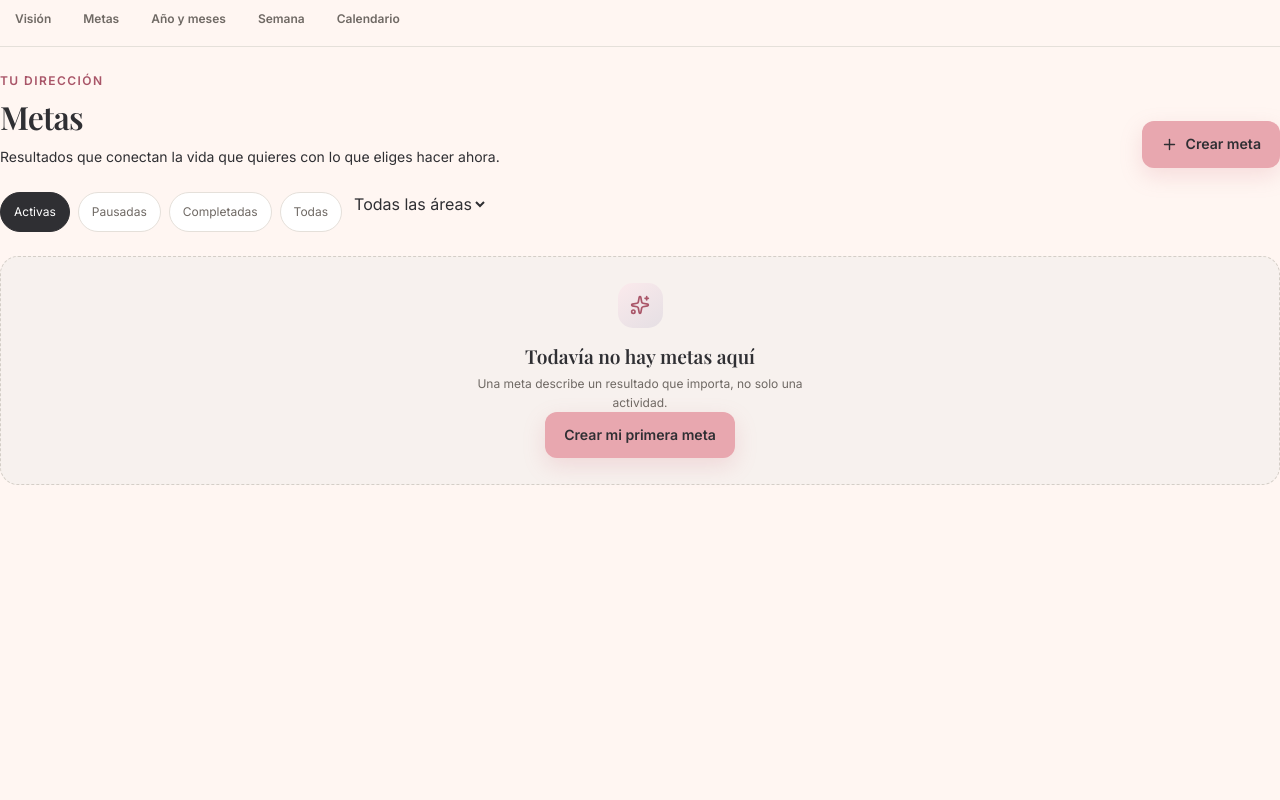
it: goal editor drafts › does not claim success or double-save while goal persistence is pending
This screenshot has width=1280, height=800.
Step 1. Click the button "Crear meta" → [1211, 144], box [1142,121,1279,168]
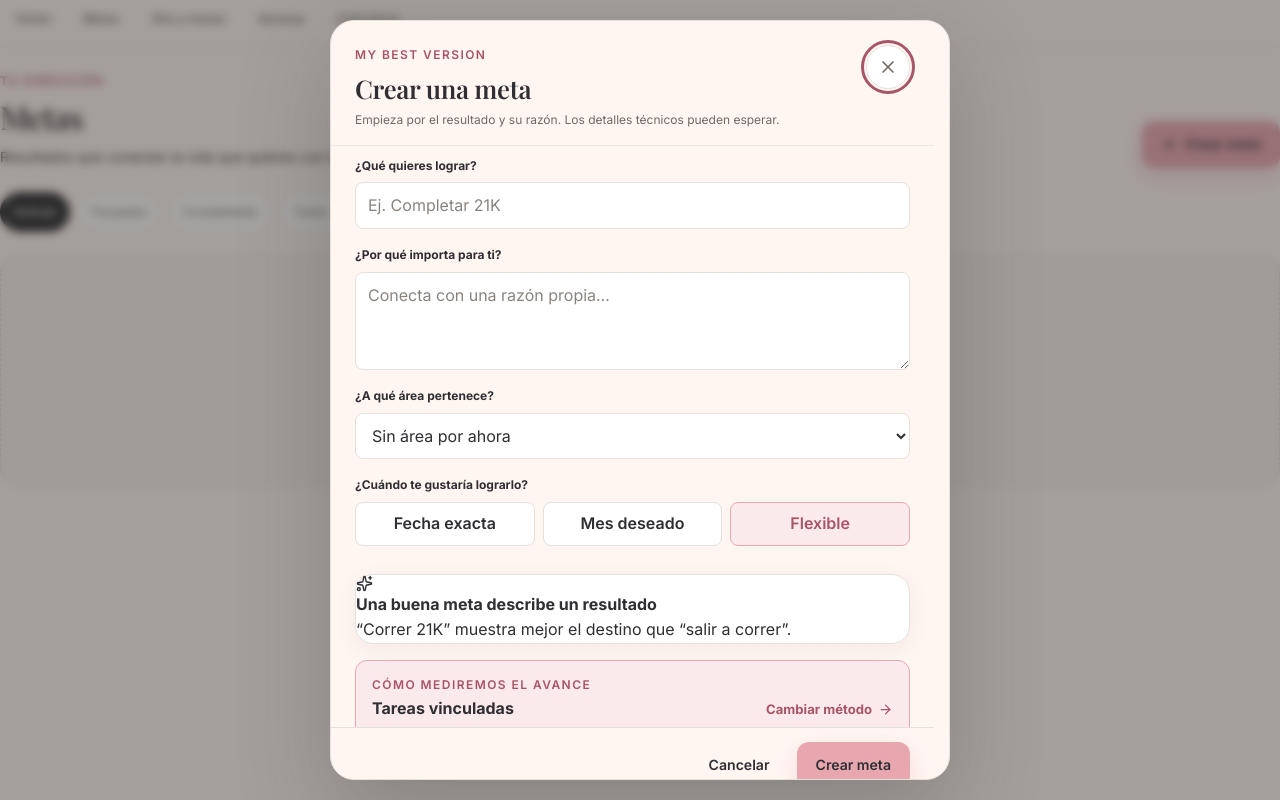
Step 2. Type "Mi resultado" into the field labelled "¿Qué quieres lograr?" → [632, 206], box [355,182,910,229]
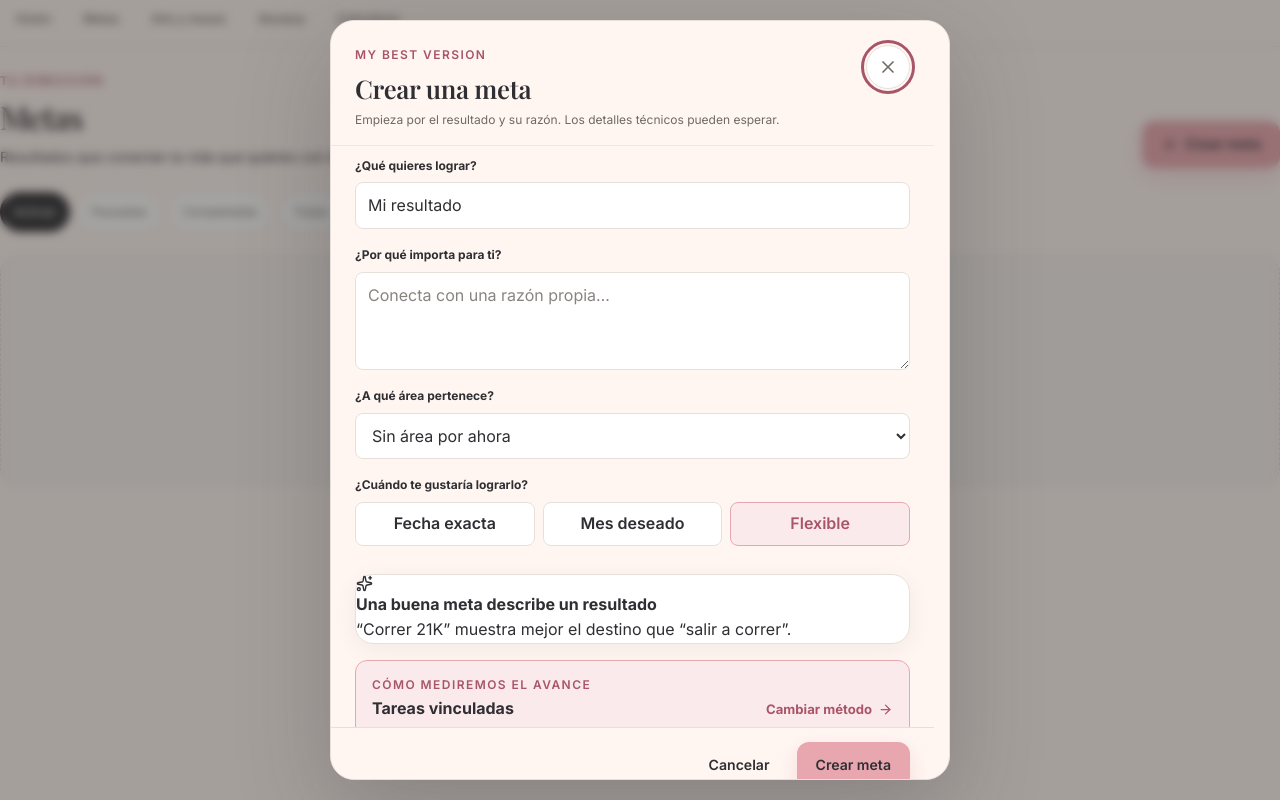
Step 3. Type "Porque importa" into the text box labelled "¿Por qué importa para ti?" → [632, 321], box [355,272,910,370]
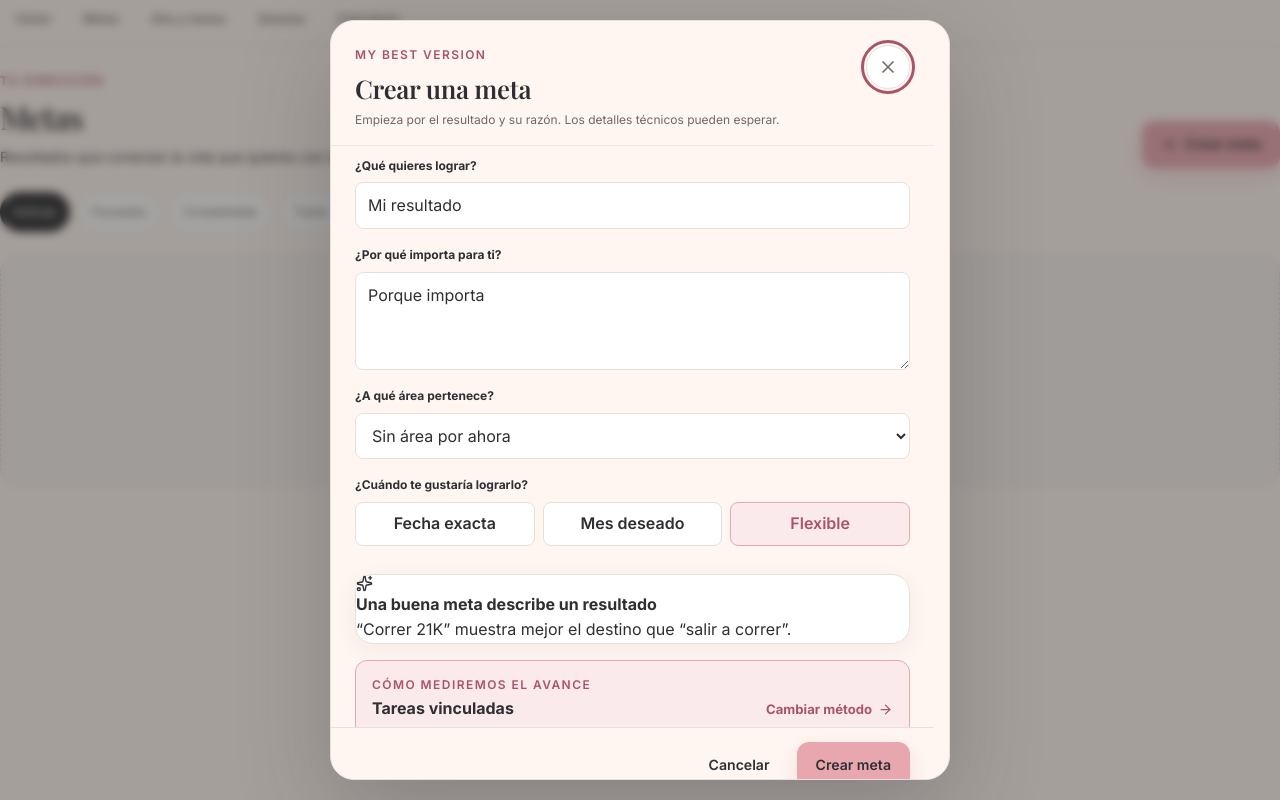
Step 4. Click the button "Crear meta" → [853, 766], box [796,742,910,789]
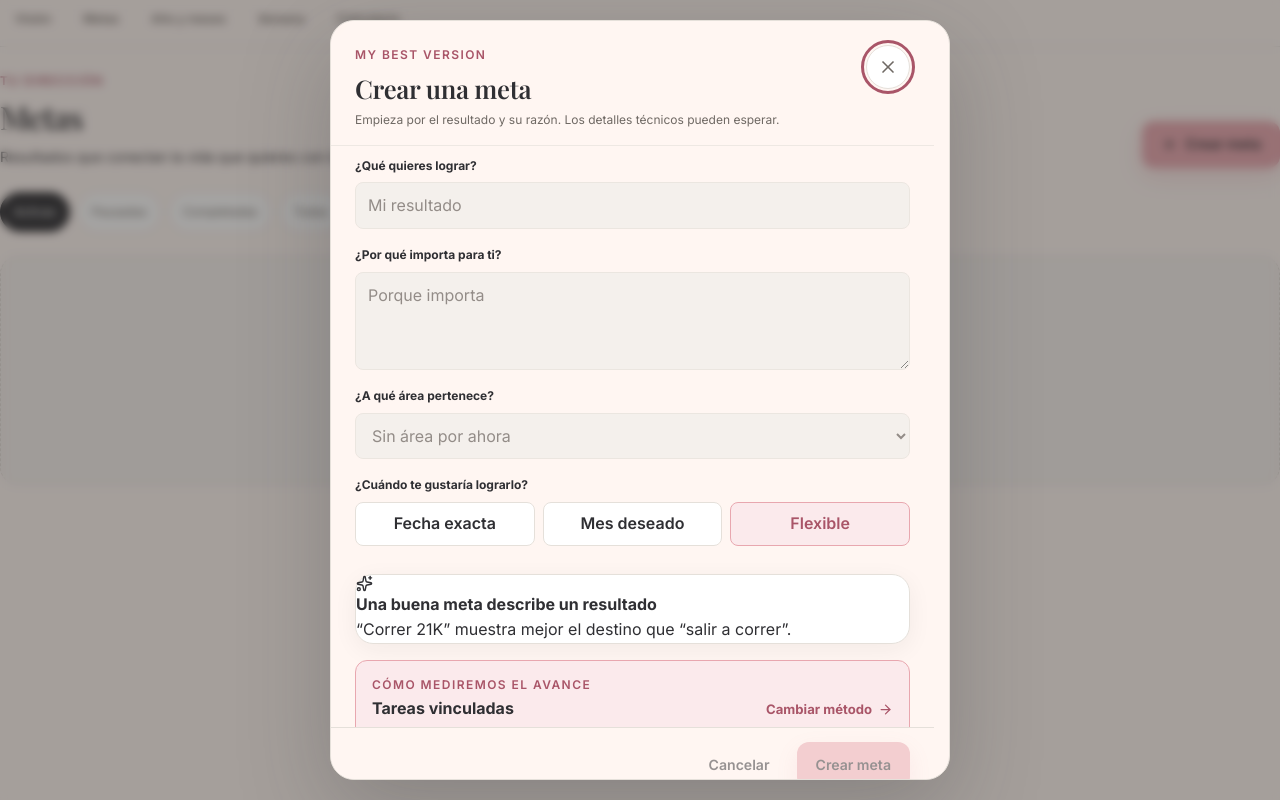
Expected: the button "Crear meta" is disabled, [796,742,910,780]
Step 5. Click the button "Crear meta" → [853, 766], box [796,742,910,789]
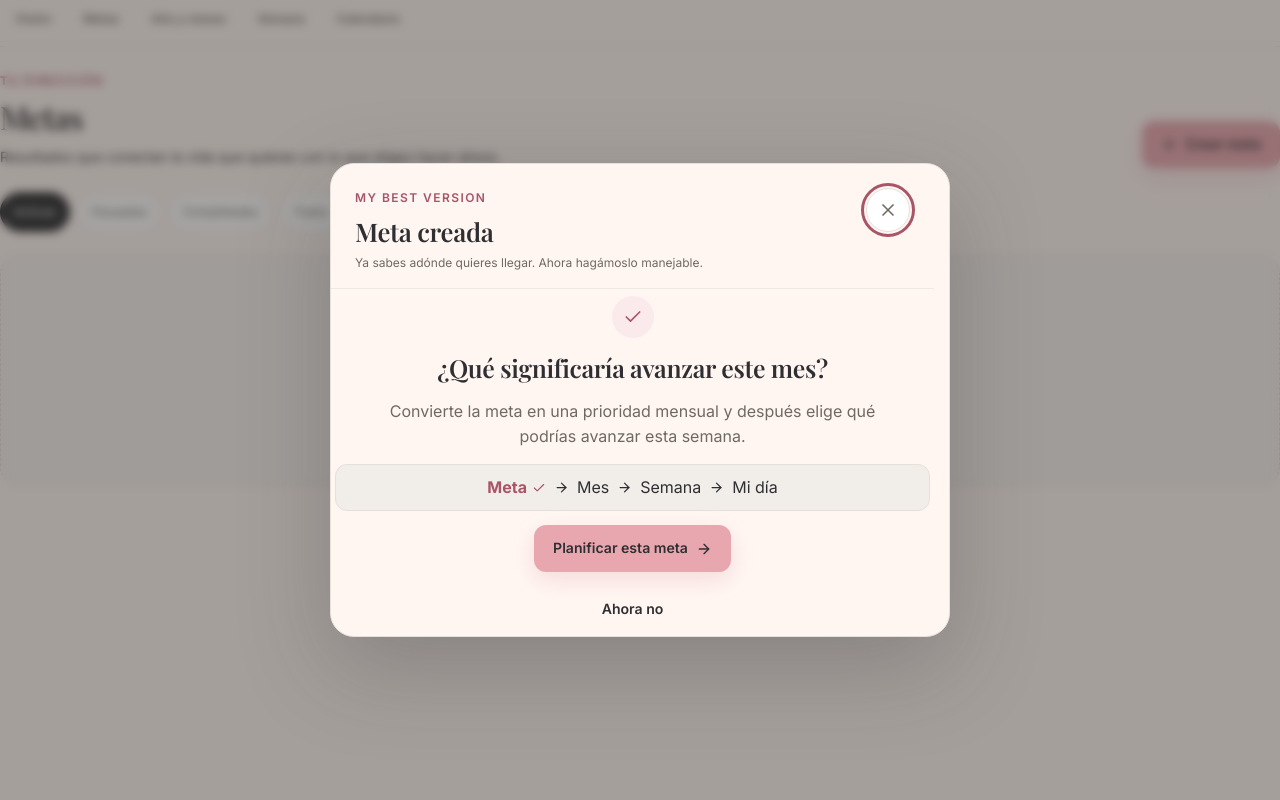
Expected: the heading "Meta creada" is shown, [355,214,494,248]
Step 6. Click the button "Ahora no" → [632, 609], box [583,586,682,632]
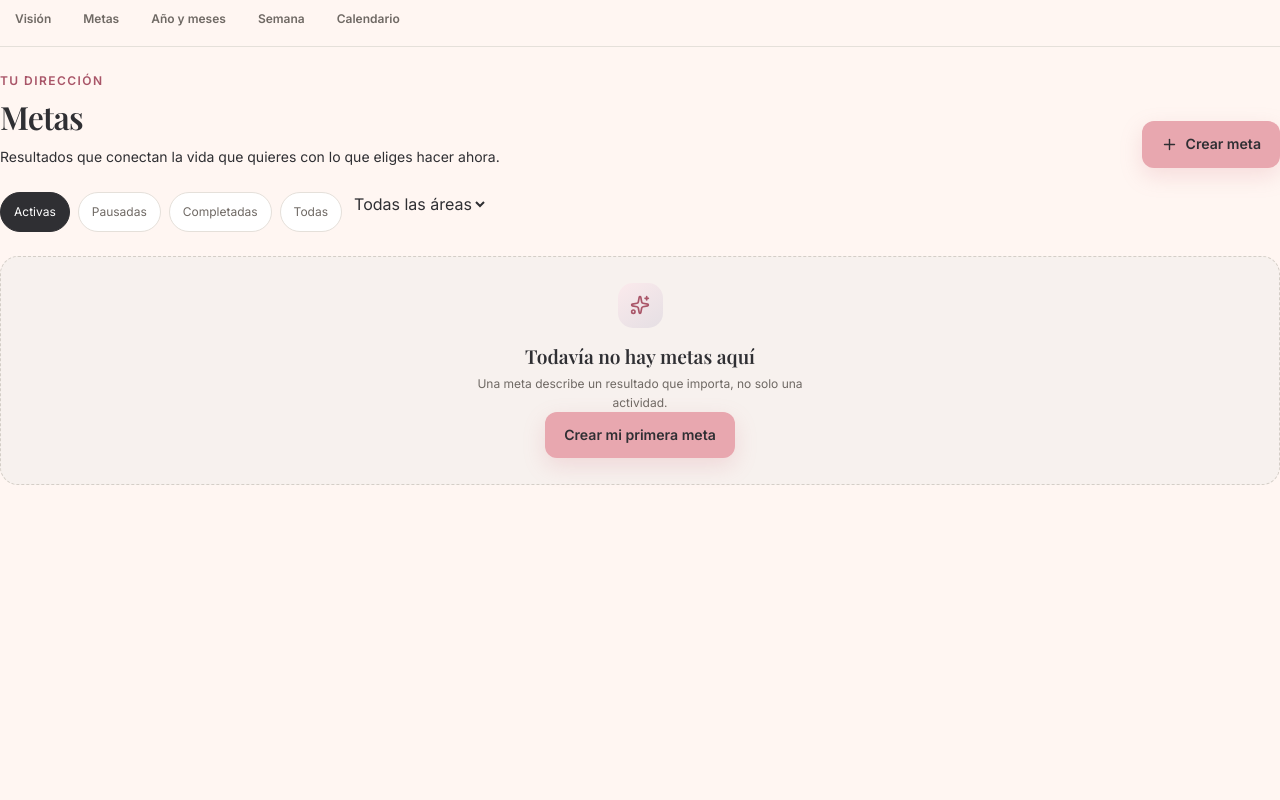
Expected: the dialog is gone
